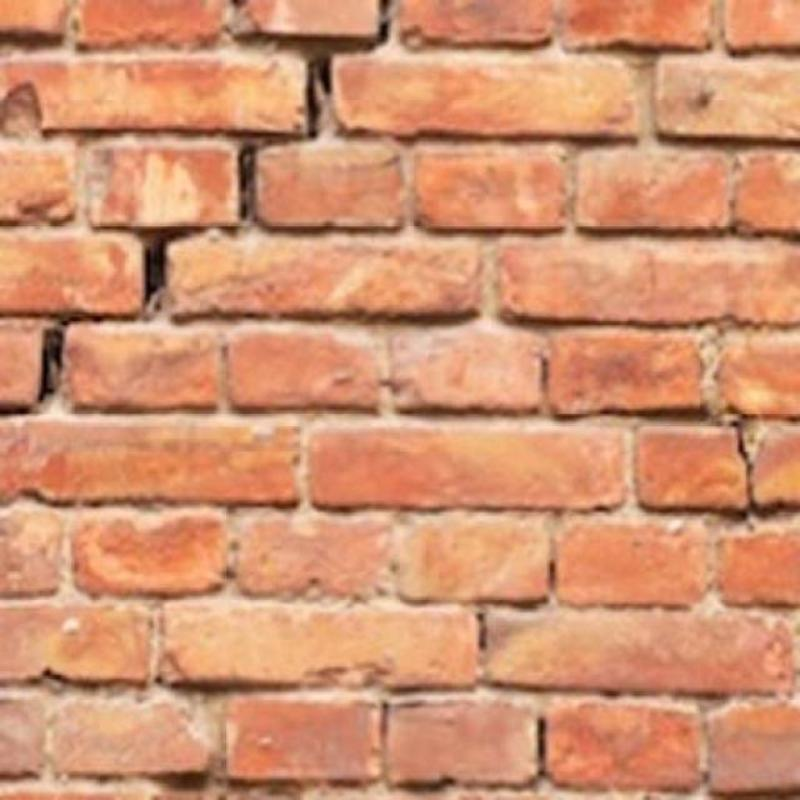crack: (0, 227, 229, 412), (238, 0, 388, 227), (732, 421, 755, 511)
